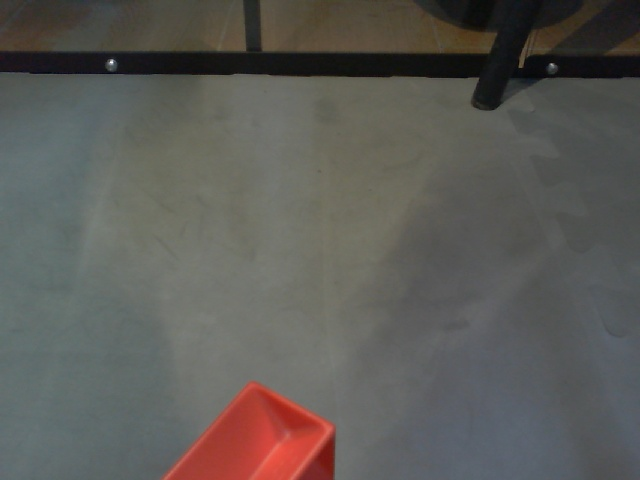RedSample: (156, 377, 339, 480)
